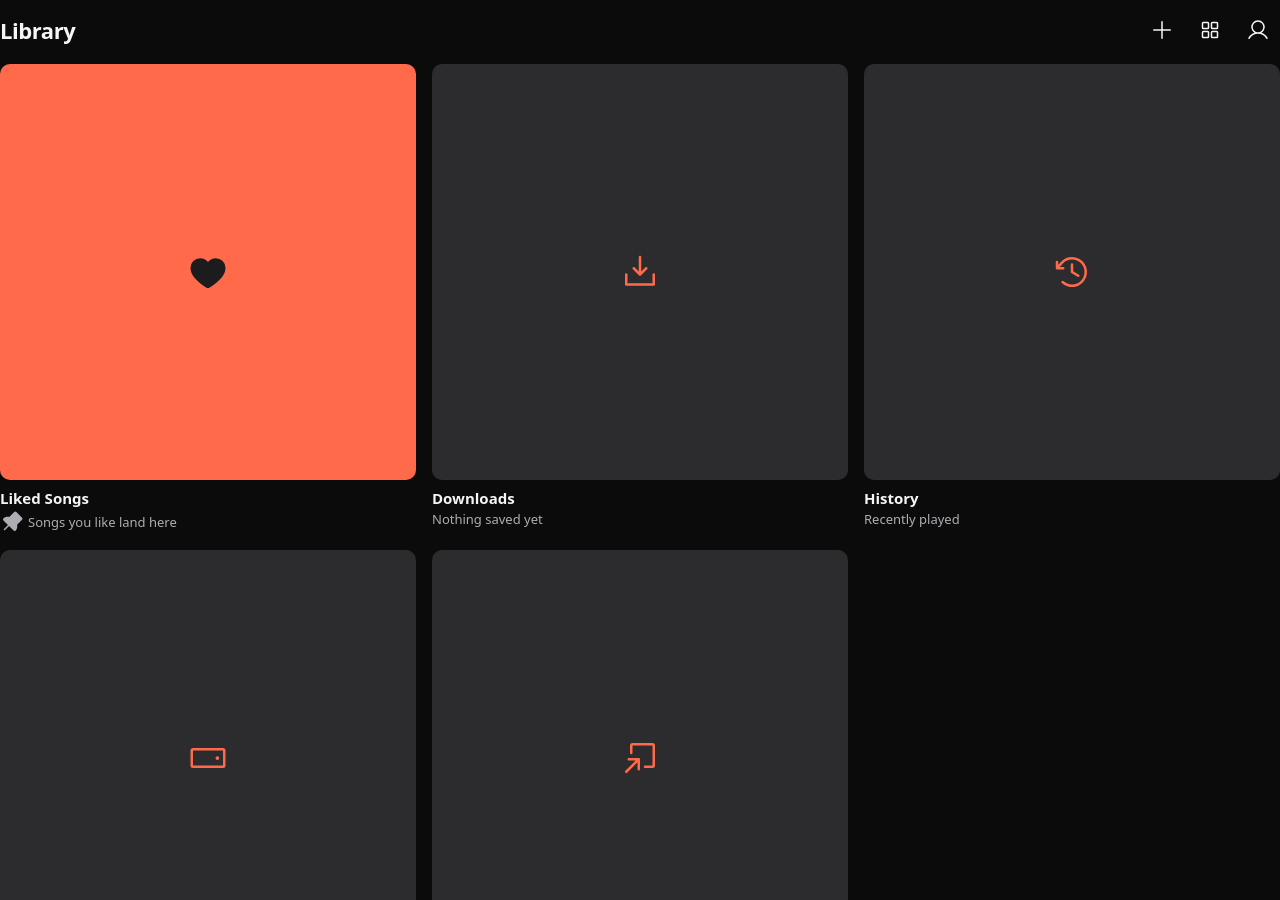
Library on phone › switches to rows and back, and keeps the choice in the device settings
Later steps or results of the test are not shown.
Click the button named "Switch to list view" at (1210, 30), box [1188,8,1232,52]
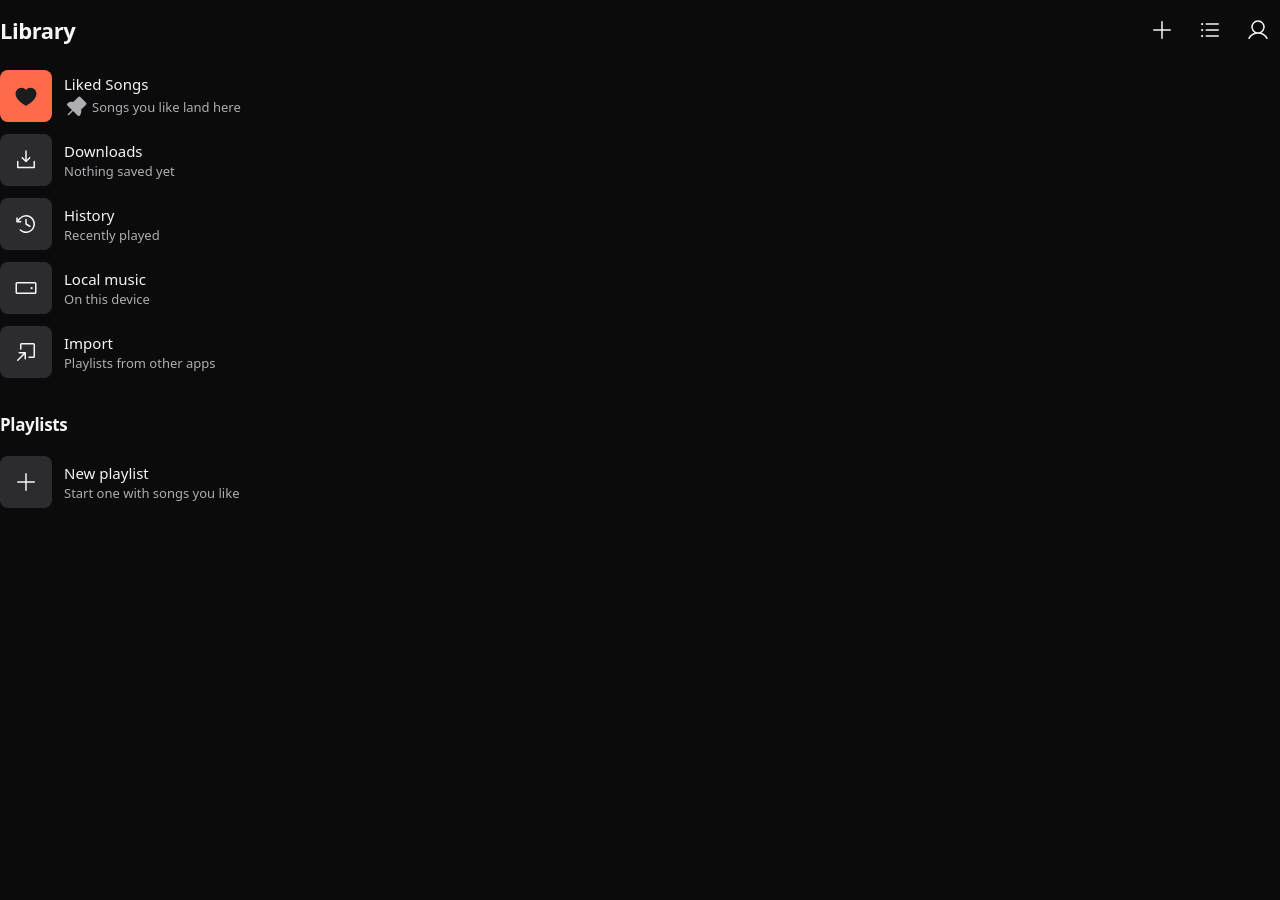
Now the button named "Switch to grid view" is shown, box [1188,8,1232,52]
